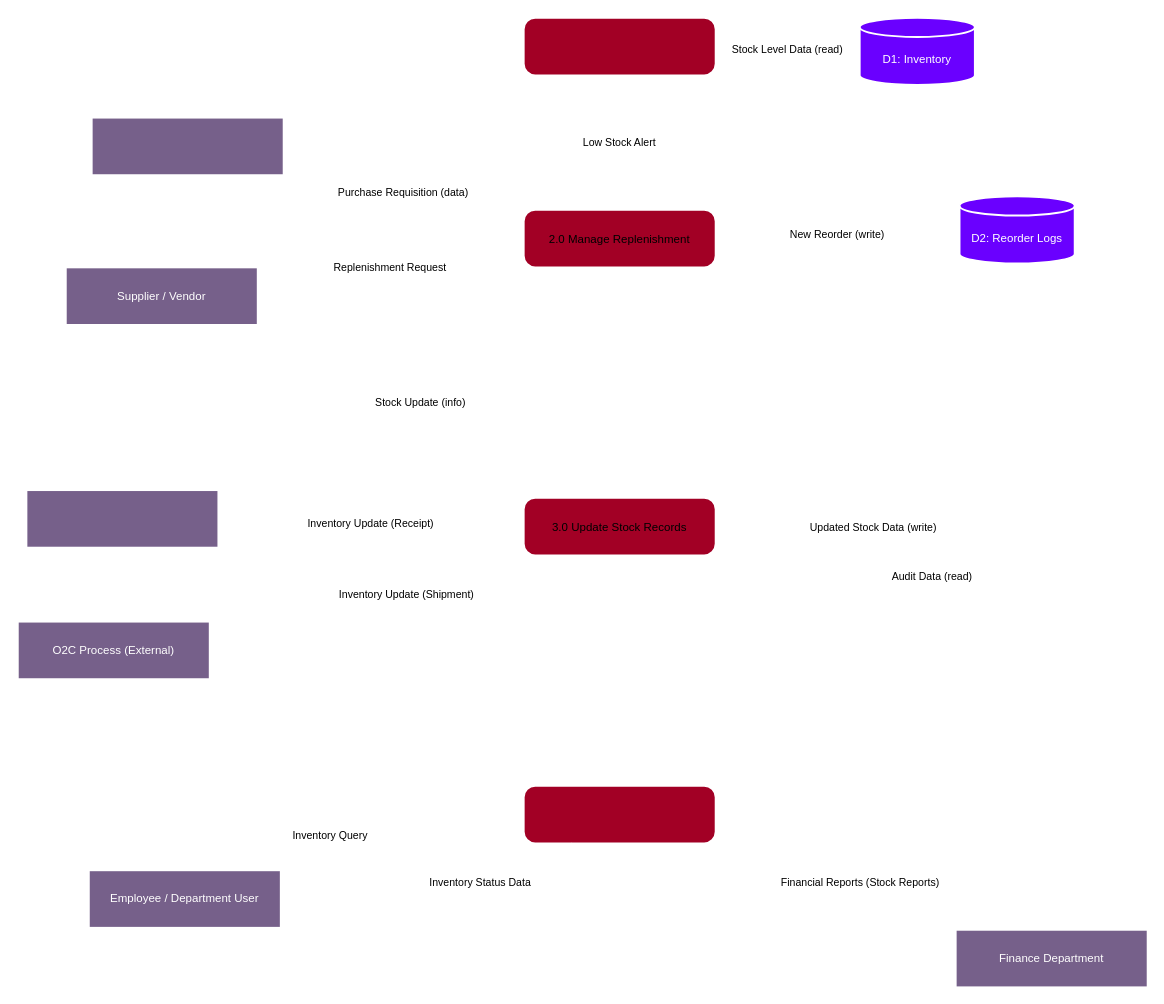
The diagram is 1164 pixels wide and 1004 high, and some of its shapes have lost their labels. The shapes that lost their labels are listed below. From the top down, each one's centre as x and y in pixels, then its label:
the point at 619,46: 1.0 Monitor Stock
the point at 187,146: P2P Process (External)
the point at 122,518: Warehouse
the point at 619,814: 4.0 Audit & Report
